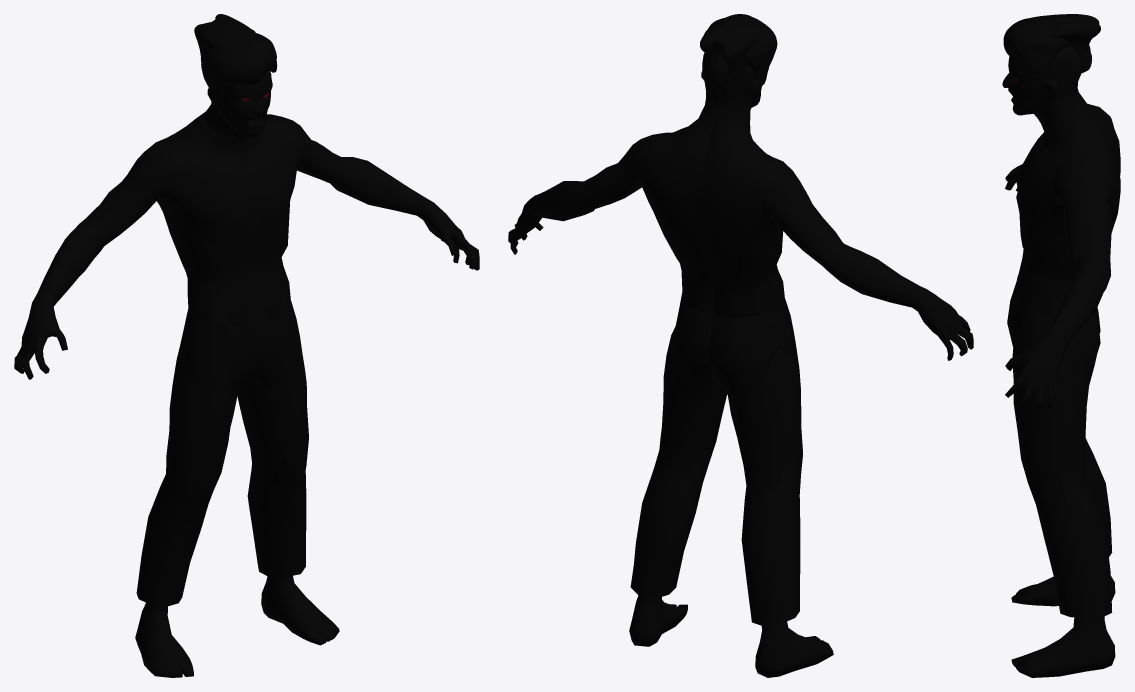
File: MetalHeads.FBX
3 views of the same model, side by side, from view 1: azimuth 30°, elevation 25°; view 2: azimuth 150°, elevation 25°; view 3: azimuth 270°, elevation 25° (orthographic).
Parts seen in each view (by area): view 1: node_id47, node_id35, node_id53, node_id45, node_id51, node_id43, node_id41, root (×2), node_id55, node_id39, node_id37, node_id31 (+6 smaller); view 2: node_id47, node_id35, node_id45, node_id53, node_id43, node_id41, node_id51, node_id39, node_id55, root (×2), node_id57, node_id31 (+6 smaller); view 3: node_id35, node_id43, node_id39, node_id29, node_id31, root (×2), node_id37, node_id49, node_id4, node_id33, node_id47, node_id53 (+1 smaller).
Boxes of the visible parts, box(x1,y1,x2,y2) form: node_id47: box(135, 462, 221, 677); node_id35: box(247, 449, 339, 645); node_id53: box(157, 111, 253, 245); node_id45: box(166, 350, 238, 508); node_id51: box(170, 217, 258, 327); node_id43: box(237, 362, 308, 487); node_id41: box(177, 309, 259, 398); root (×2): box(194, 14, 277, 101); node_id55: box(90, 138, 187, 245); node_id39: box(239, 116, 297, 226); node_id37: box(251, 217, 290, 327); node_id31: box(203, 69, 272, 138); node_id47: box(741, 461, 833, 677); node_id35: box(629, 450, 708, 646); node_id45: box(724, 348, 802, 506); node_id53: box(698, 125, 782, 256); node_id43: box(654, 326, 726, 484); node_id41: box(709, 298, 799, 396); node_id51: box(698, 224, 784, 317); node_id39: box(641, 119, 713, 238); node_id55: box(740, 157, 841, 260); root (×2): box(700, 14, 777, 99); node_id57: box(800, 232, 923, 307); node_id31: box(698, 52, 761, 129); node_id35: box(1011, 469, 1115, 677); node_id43: box(1013, 357, 1092, 505); node_id39: box(1016, 108, 1120, 243); node_id29: box(1053, 152, 1114, 265); node_id31: box(1002, 45, 1086, 125); root (×2): box(1003, 14, 1100, 75); node_id37: box(1010, 209, 1074, 315); node_id49: box(1007, 301, 1100, 386); node_id4: box(1050, 238, 1110, 343); node_id33: box(1005, 312, 1067, 410); node_id47: box(1011, 450, 1115, 606); node_id53: box(1016, 103, 1120, 189).
Bounding box in the file's own units: 0.4063 × 0.5231 × 0.0911.
19 materials, 19 textured.
